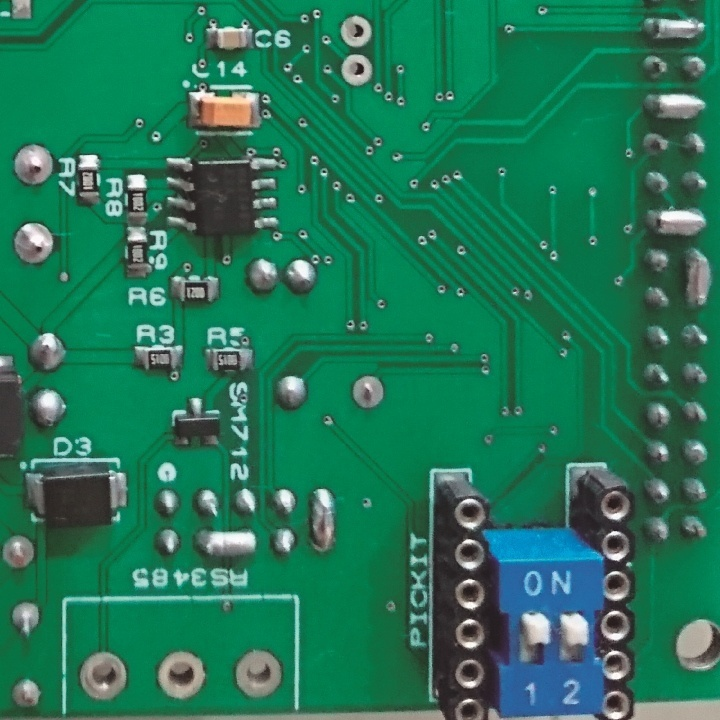F: (153, 647, 213, 701), (74, 645, 129, 701), (231, 646, 284, 704), (9, 141, 57, 189), (10, 223, 56, 268), (349, 371, 389, 415), (337, 50, 373, 92), (1, 533, 39, 572), (339, 12, 377, 51), (9, 598, 45, 639), (8, 675, 45, 710)
P: (639, 89, 710, 125), (641, 204, 710, 240), (191, 526, 260, 562), (681, 241, 714, 315), (306, 484, 338, 558), (641, 14, 709, 46)
